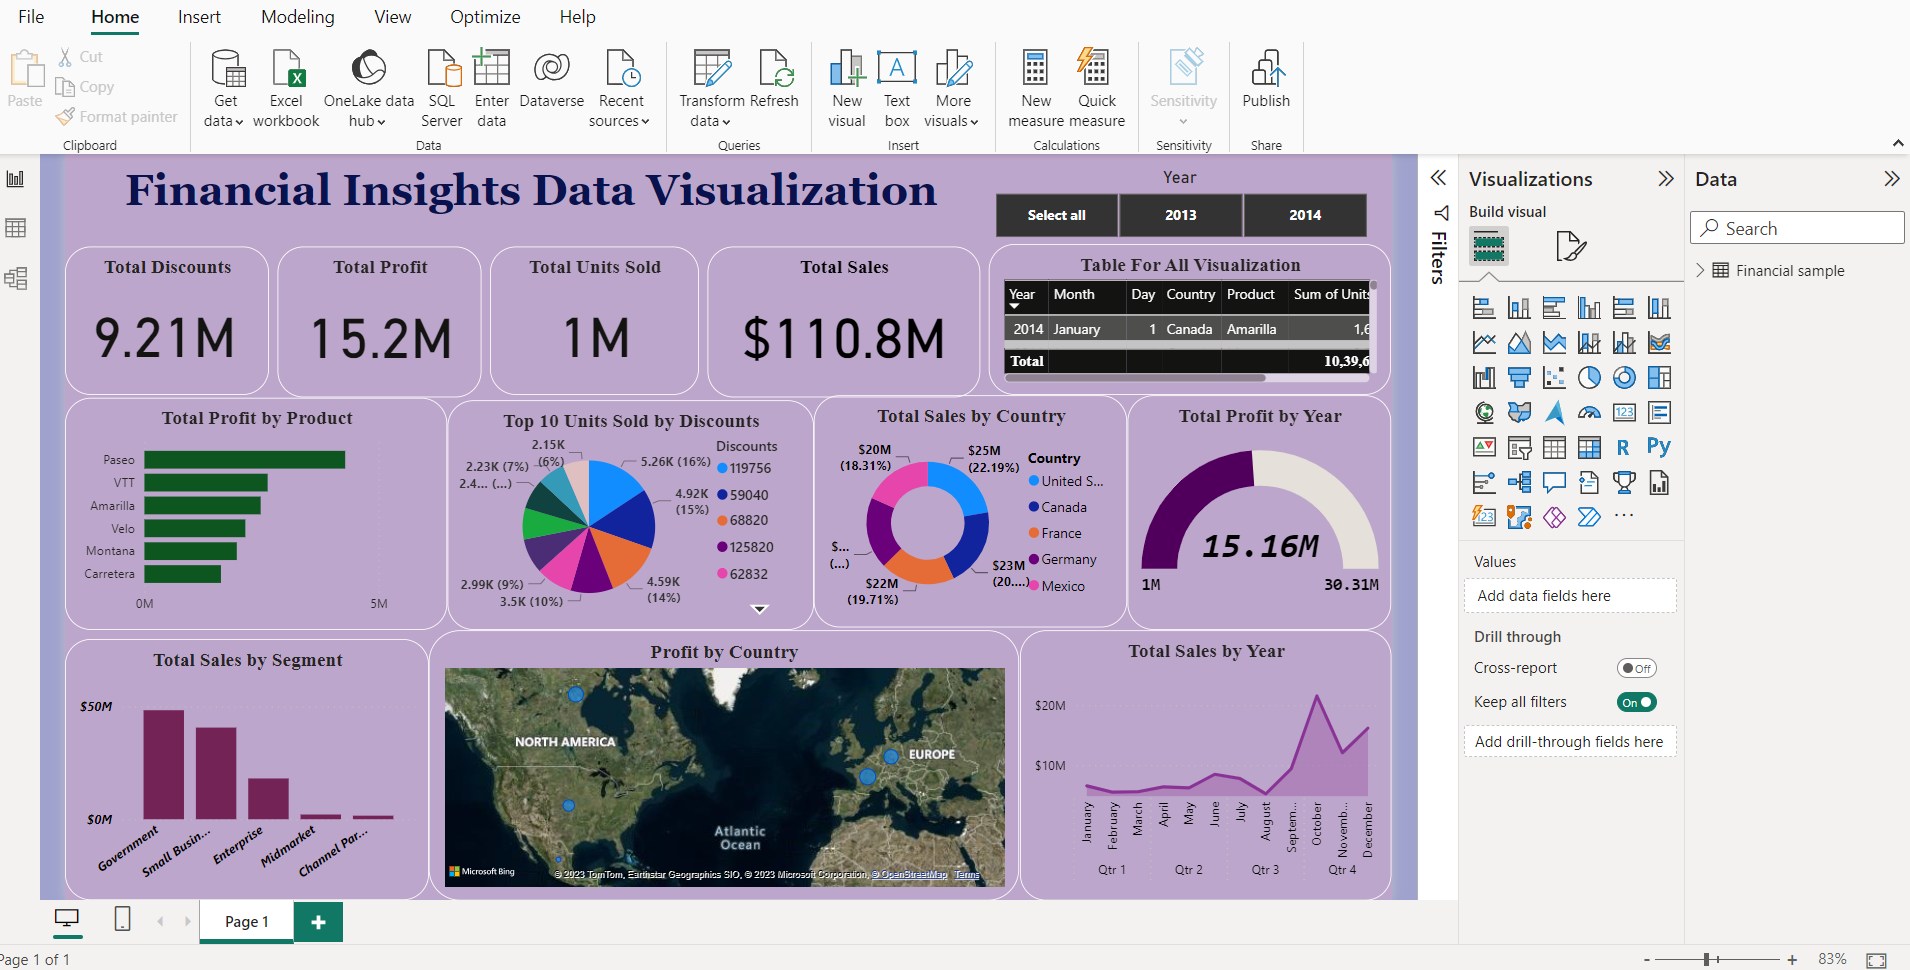

Layout of this report page (visuals, bound fields, positions):
{"tool":"powerbi","page":{"name":"Page 1","canvas":[1280,720],"ordinal":0},"visuals":[{"type":"cardVisual","title":"Total Discounts","fields":{"Data":["Sum(Sheet1.Discounts)"]},"box":[0,89.2,196.6,143.5],"z":0},{"type":"columnChart","title":"Total Sales by Segment","fields":{"Category":["Sheet1.Segment"],"Y":["Sum(Sheet1. Sales)"]},"box":[0,467.9,351,252.1],"z":1000},{"type":"donutChart","title":"Total  Sales by Country","fields":{"Category":["Sheet1.Country"],"Y":["Sum(Sheet1. Sales)"]},"box":[722.4,232.8,302.7,224.3],"z":2000},{"type":"map","title":"Profit by Country","fields":{"Category":["Sheet1.Country"],"Size":["Sum(Financial sample.Profit)"]},"box":[351,459.5,569.2,260.5],"z":3000},{"type":"stackedAreaChart","title":"Total Sales by Year","fields":{"Y":["Sum(Sheet1. Sales)"],"Category":["Sheet1.Date.Variation.Date Hierarchy.Quarter","Sheet1.Date.Variation.Date Hierarchy.Month"]},"box":[921.4,459.5,358.2,260.5],"z":4000},{"type":"barChart","title":"Total Profit by Product","fields":{"Category":["Sheet1.Product"],"Y":["Sum(Sheet1.Profit)"]},"box":[0,235.2,369,224.3],"z":5000},{"type":"slicer","title":"Year","fields":{"Values":["Sheet1.Year"]},"box":[872,12.1,407.6,74.8],"z":6000},{"type":"cardVisual","title":"Total Profit","fields":{"Data":["Sum(Sheet1.Profit)"]},"box":[205,89.2,196.6,145.9],"z":7000},{"type":"cardVisual","title":"Total Units Sold","fields":{"Data":["Sum(Sheet1.Units Sold)"]},"box":[410.1,89.2,201.4,143.5],"z":8000},{"type":"cardVisual","title":"Total Sales","fields":{"Data":["Sum(Sheet1. Sales)"]},"box":[619.9,89.2,262.9,145.9],"z":9000},{"type":"pieChart","title":"Top 10 Units Sold by Discounts","fields":{"Y":["Sum(Sheet1.Units Sold)"],"Category":["Sheet1.Discounts"]},"box":[369,237.6,353.4,221.9],"z":10000},{"type":"gauge","title":"Total Profit by Year","fields":{"Y":["Sum(Sheet1.Profit)"],"MinValue":["Sum(Sheet1.Year)"]},"box":[1025.1,232.8,254.5,226.7],"z":11000},{"type":"tableEx","title":"Table For All Visualization","fields":{"Values":["Sheet1.Date.Variation.Date Hierarchy.Year","Sheet1.Date.Variation.Date Hierarchy.Month","Sheet1.Date.Variation.Date Hierarchy.Day","Sheet1.Country","Sheet1.Product","Sum(Sheet1.Units Sold)","Sum(Sheet1.Profit)"]},"box":[891.3,86.8,388.3,145.9],"z":12000},{"type":"textbox","title":"Financial Insights Data Visualization","box":[25.3,12.1,849,49.4],"z":13000}]}

Visuals, with their boxes on the page's 1280x720 design canvas (x1, y1, x2, y2). These are canvas units, not pixel positions in the 1910x970 screenshot, which may show the page scaled, cropped or inside an application window:
"Total Discounts" cardVisual: rect(0, 89, 197, 233)
"Total Sales by Segment" columnChart: rect(0, 468, 351, 720)
"Total  Sales by Country" donutChart: rect(722, 233, 1025, 457)
"Profit by Country" map: rect(351, 460, 920, 720)
"Total Sales by Year" stackedAreaChart: rect(921, 460, 1280, 720)
"Total Profit by Product" barChart: rect(0, 235, 369, 460)
"Year" slicer: rect(872, 12, 1280, 87)
"Total Profit" cardVisual: rect(205, 89, 402, 235)
"Total Units Sold" cardVisual: rect(410, 89, 612, 233)
"Total Sales" cardVisual: rect(620, 89, 883, 235)
"Top 10 Units Sold by Discounts" pieChart: rect(369, 238, 722, 460)
"Total Profit by Year" gauge: rect(1025, 233, 1280, 460)
"Table For All Visualization" tableEx: rect(891, 87, 1280, 233)
"Financial Insights Data Visualization" textbox: rect(25, 12, 874, 62)
